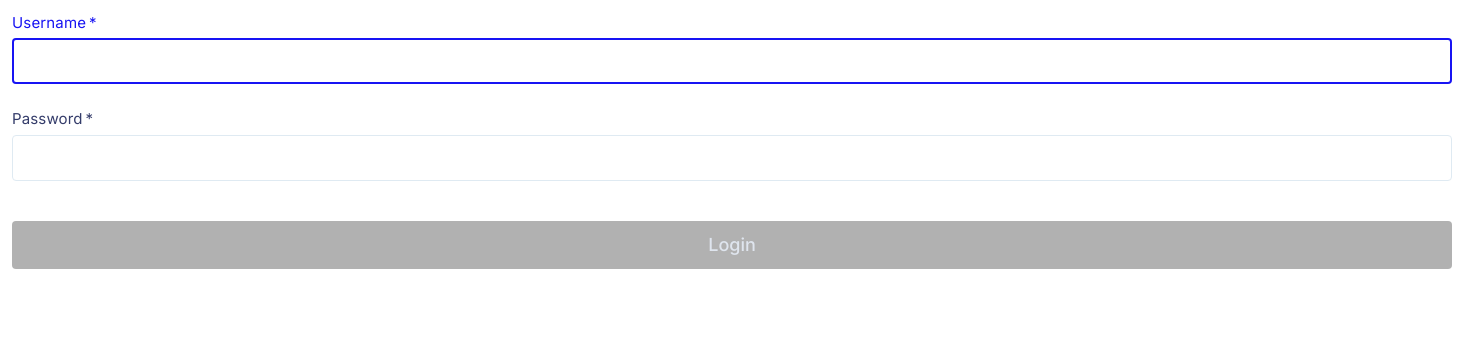
login flow › shows how long to wait when the account is locked
Type "devadmin" into the field labelled "Username *" at coordinates (732, 61), box [12,38,1452,84]
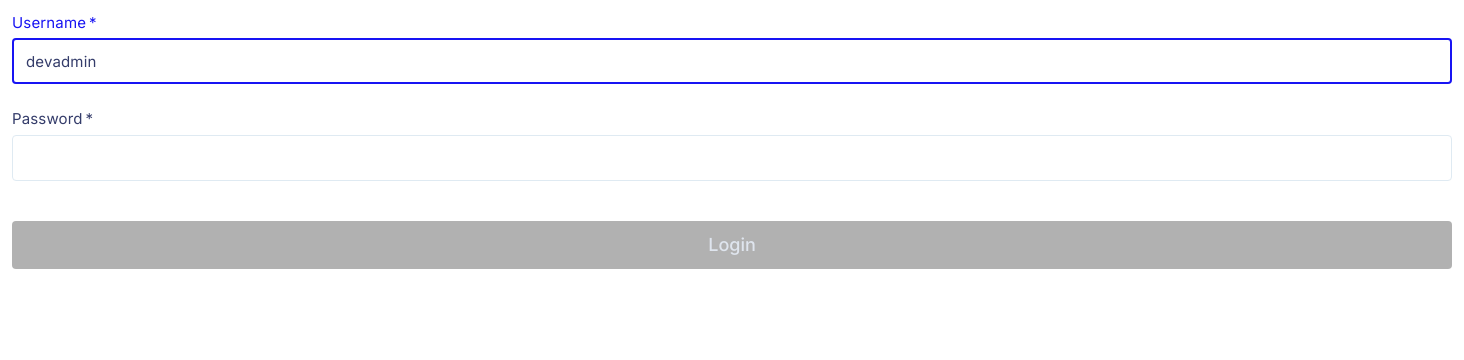
Type "wrong" into the password field labelled "Password *" at coordinates (713, 158), box [12,135,1414,181]
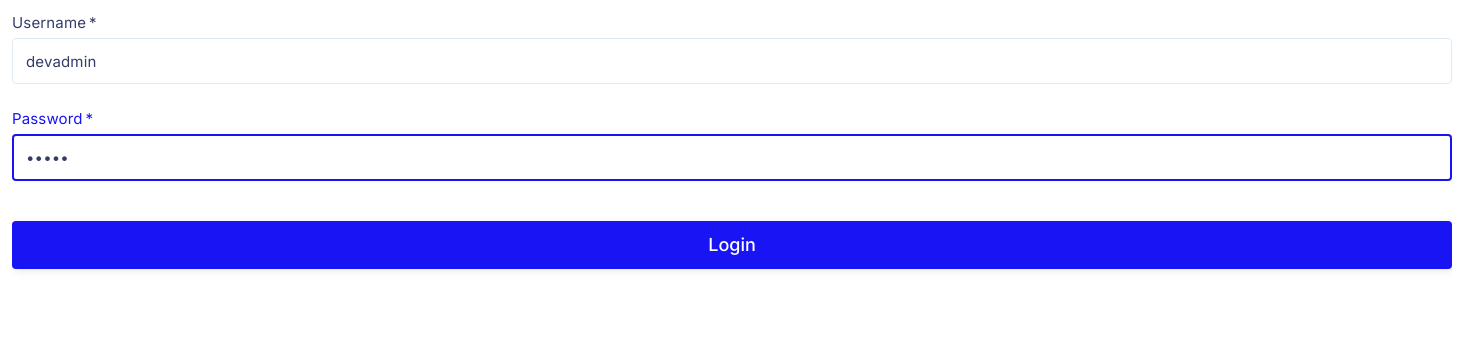
Click the button "Login" at coordinates (732, 245), box [12,221,1452,269]
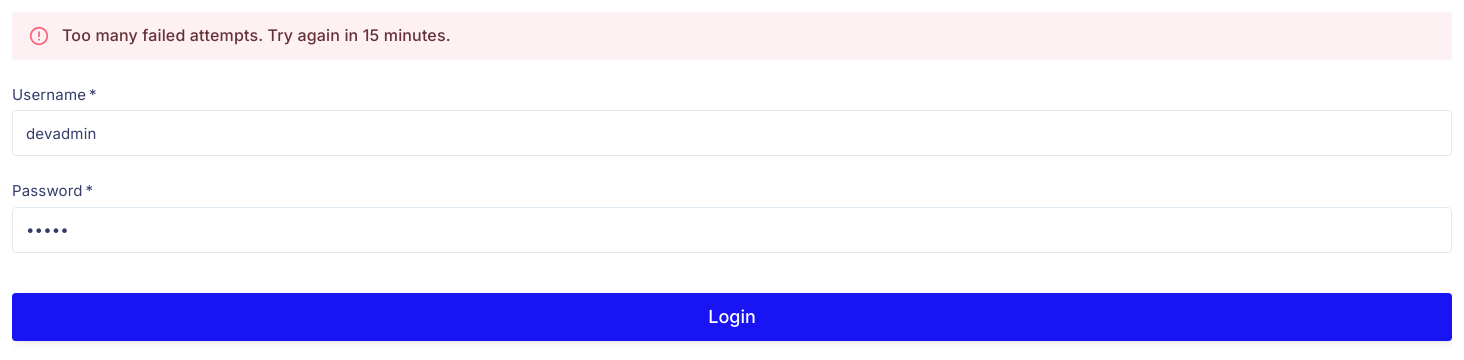
Now the text "Too many failed attempts. Try again in 15 minutes." is shown, box [62,25,451,45]
